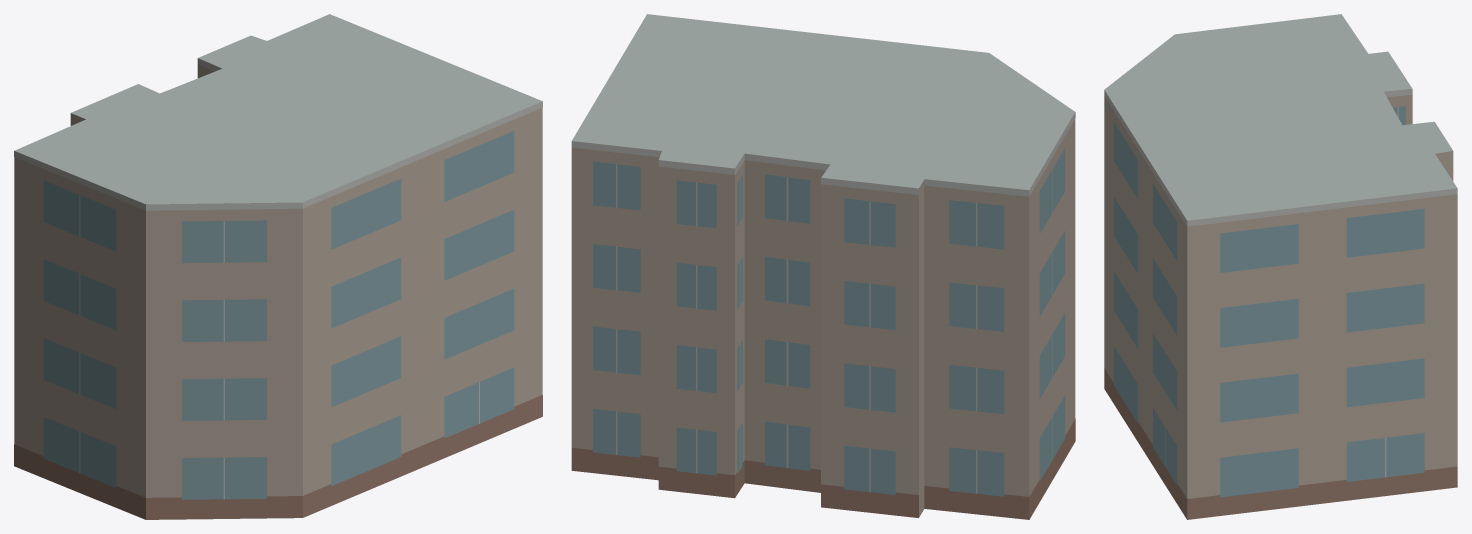
The model's file is survey-upis-32680142.glb.
3 renders of one model, left to right at view 1: azimuth 30°, elevation 25°; view 2: azimuth 150°, elevation 25°; view 3: azimuth 270°, elevation 25°, orthographic. The views are drawn at different scales.
Visible parts, largest first — view 1: survey-upis-32680142.tmp; view 2: survey-upis-32680142.tmp; view 3: survey-upis-32680142.tmp.
Boxes of the visible parts, box(x1,y1,x2,y2) form: survey-upis-32680142.tmp: box(14, 14, 542, 519); survey-upis-32680142.tmp: box(571, 14, 1075, 519); survey-upis-32680142.tmp: box(1104, 14, 1457, 519).
Bounding box in the file's own units: 18.43 × 12.42 × 13.31.
